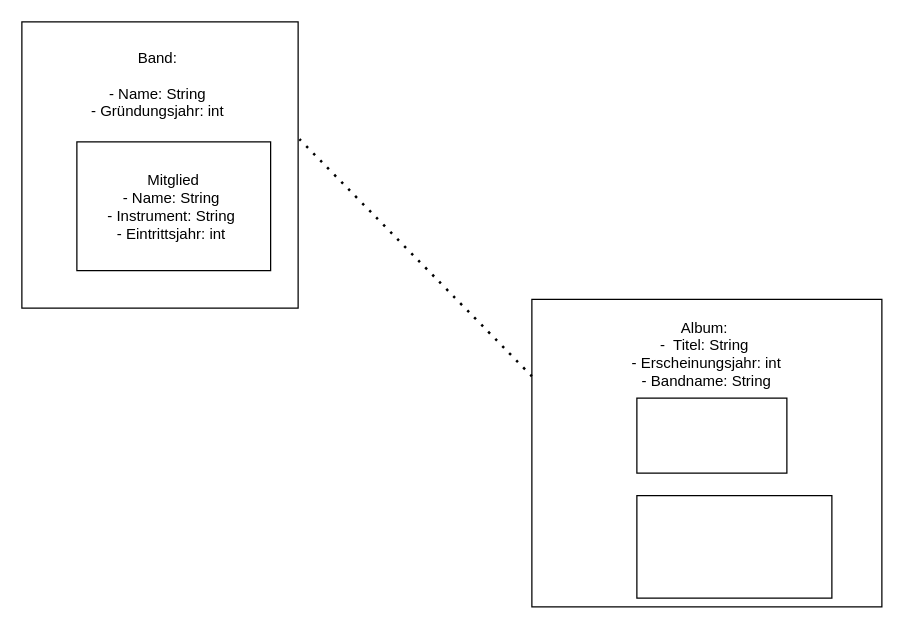
Some shapes in this 904 by 629 pixel diagram are drawn without their labels. The shapes that lost their labels are listed below. From the top down, each one's centre as x and y in pixels, then its label:
At (x=711, y=435): "Genre: - Name: String".
At (x=734, y=546): "Songs: - Name: String - Dauer: Int - Erscheinungsdatum: Int".
